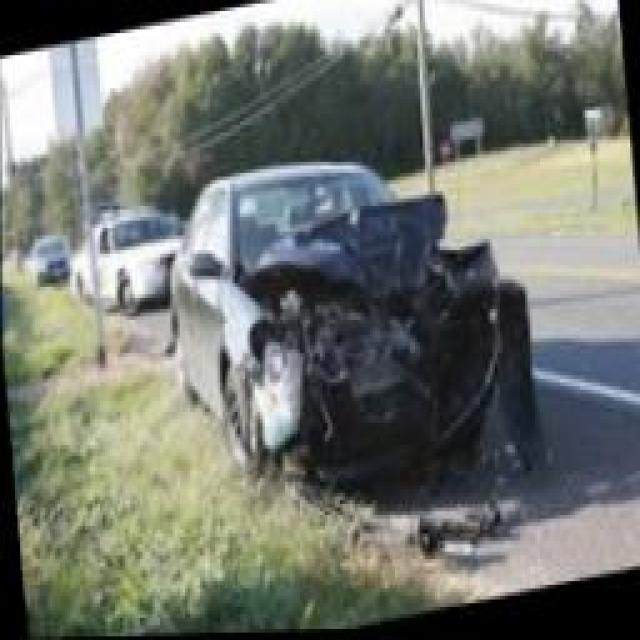Bonnet: (233, 197, 467, 327)
Bumper: (264, 321, 542, 477)
Light: (246, 322, 307, 389), (462, 257, 514, 329)
